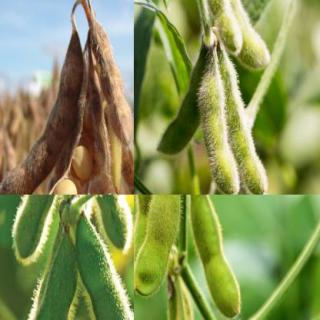soya: (0, 29, 83, 194), (190, 195, 242, 319), (219, 65, 268, 194), (75, 216, 133, 320), (90, 22, 133, 142), (196, 74, 239, 194), (134, 195, 181, 302), (28, 239, 77, 319), (11, 195, 67, 263), (227, 0, 272, 72), (157, 82, 198, 156), (89, 194, 133, 252), (205, 0, 244, 56), (134, 194, 155, 264)
